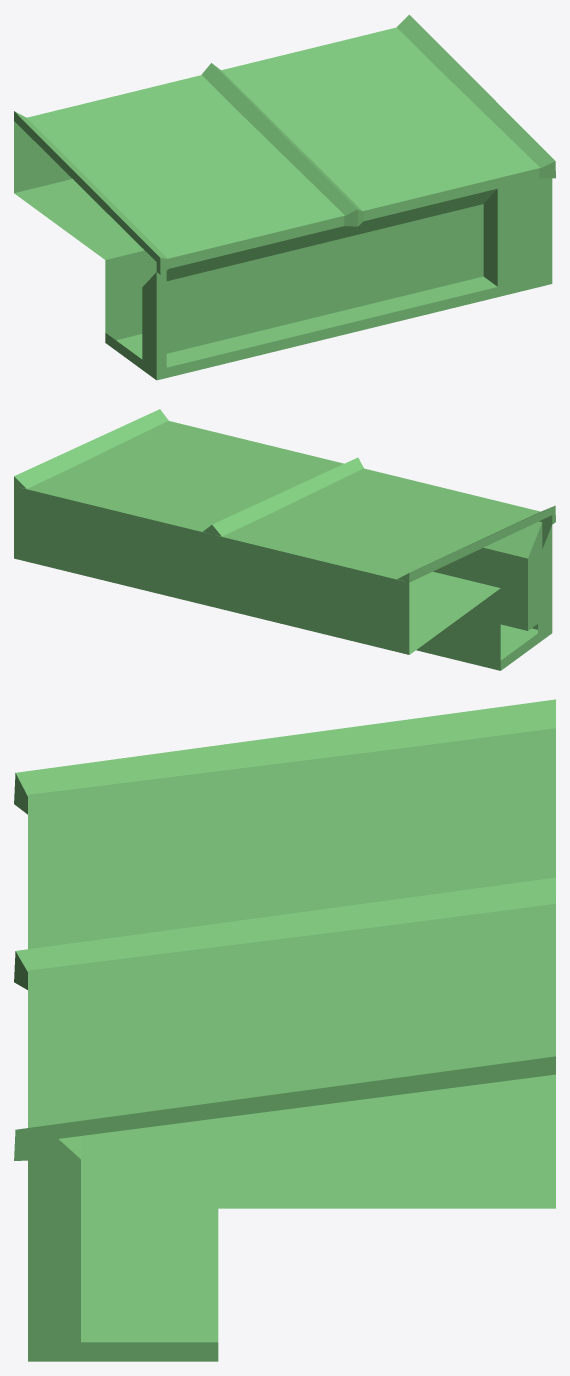
The model's file is Bld3_Top_Mid_A.fbx.
3 views of the same model, one above another, from view 1: azimuth 30°, elevation 25°; view 2: azimuth 150°, elevation 25°; view 3: azimuth 270°, elevation 25° (orthographic). The views are drawn at different scales.
Parts seen in each view (by area): view 1: Bld3_Top_Mid_A; view 2: Bld3_Top_Mid_A; view 3: Bld3_Top_Mid_A.
Part boxes in pixels (x1,y1,x2,y2): Bld3_Top_Mid_A: (14, 14, 555, 380); Bld3_Top_Mid_A: (14, 409, 555, 670); Bld3_Top_Mid_A: (14, 699, 555, 1361).
Bounding box in the file's own units: 600 × 239 × 385.
